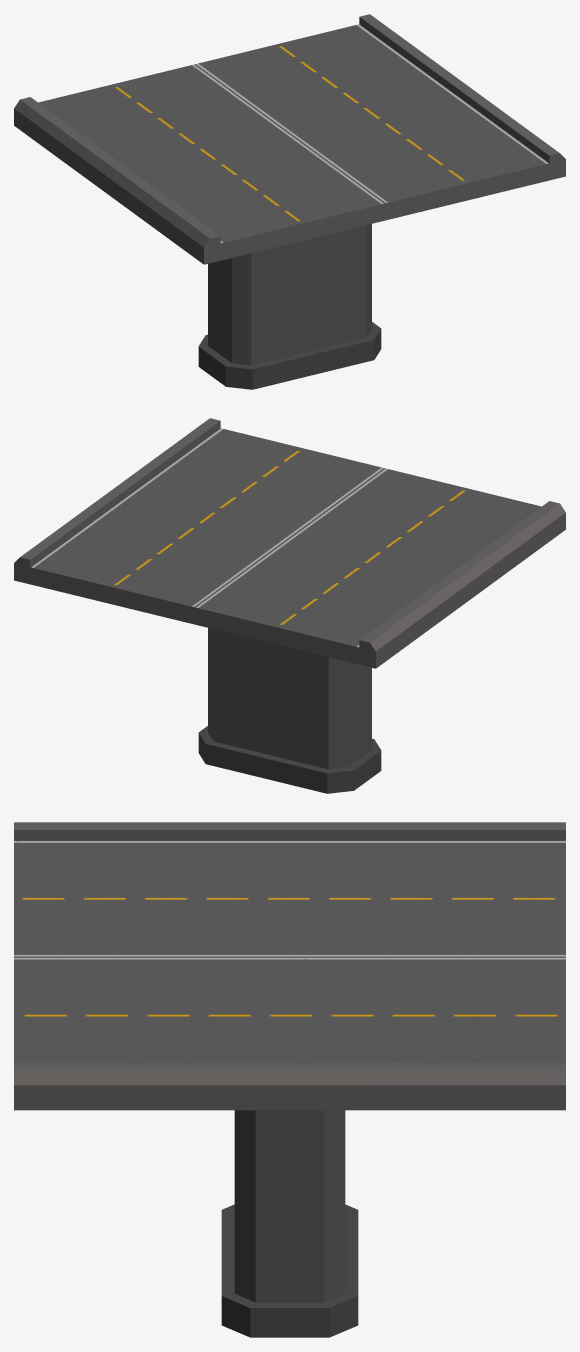
Rendered from SM_Floor_Road_26.fbx.
3 views of the same model, one above another, from view 1: azimuth 30°, elevation 25°; view 2: azimuth 150°, elevation 25°; view 3: azimuth 270°, elevation 25° (orthographic). The views are drawn at different scales.
Parts seen in each view (by area): view 1: SM_Floor_Road_26; view 2: SM_Floor_Road_26; view 3: SM_Floor_Road_26.
Boxes of the visible parts, x1=… form: SM_Floor_Road_26: x1=14, y1=14, x2=565, y2=389; SM_Floor_Road_26: x1=14, y1=418, x2=565, y2=793; SM_Floor_Road_26: x1=14, y1=822, x2=565, y2=1337.
Bounding box in the file's own units: 10.99 × 6.72 × 10.
